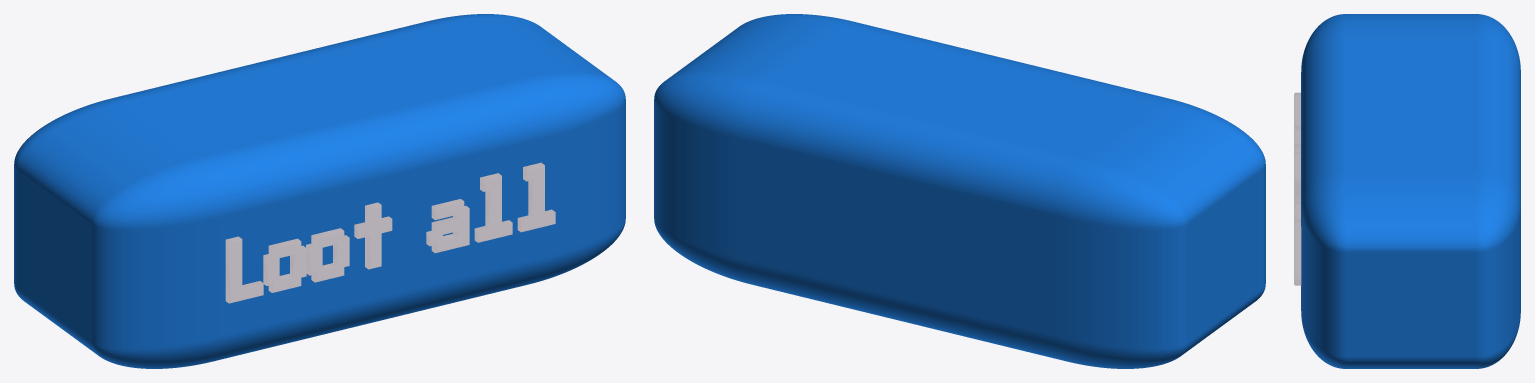
Rendered from buttonLoot-all.gltf.
The picture shows the model from 3 angles, left to right: view 1: azimuth 30°, elevation 25°; view 2: azimuth 150°, elevation 25°; view 3: azimuth 270°, elevation 25°; orthographic projection. The views are drawn at different scales.
Visible parts, largest first — view 1: button_lootAll, button_lootAll_text; view 2: button_lootAll; view 3: button_lootAll, button_lootAll_text.
Boxes of the visible parts, x1,y1,x2,y2 form: button_lootAll: [14, 14, 625, 368]; button_lootAll_text: [225, 162, 555, 303]; button_lootAll: [654, 14, 1265, 368]; button_lootAll: [1301, 14, 1520, 368]; button_lootAll_text: [1294, 92, 1301, 285].
Size of the model in its own units: 0.5407 by 0.1955 by 0.229.
